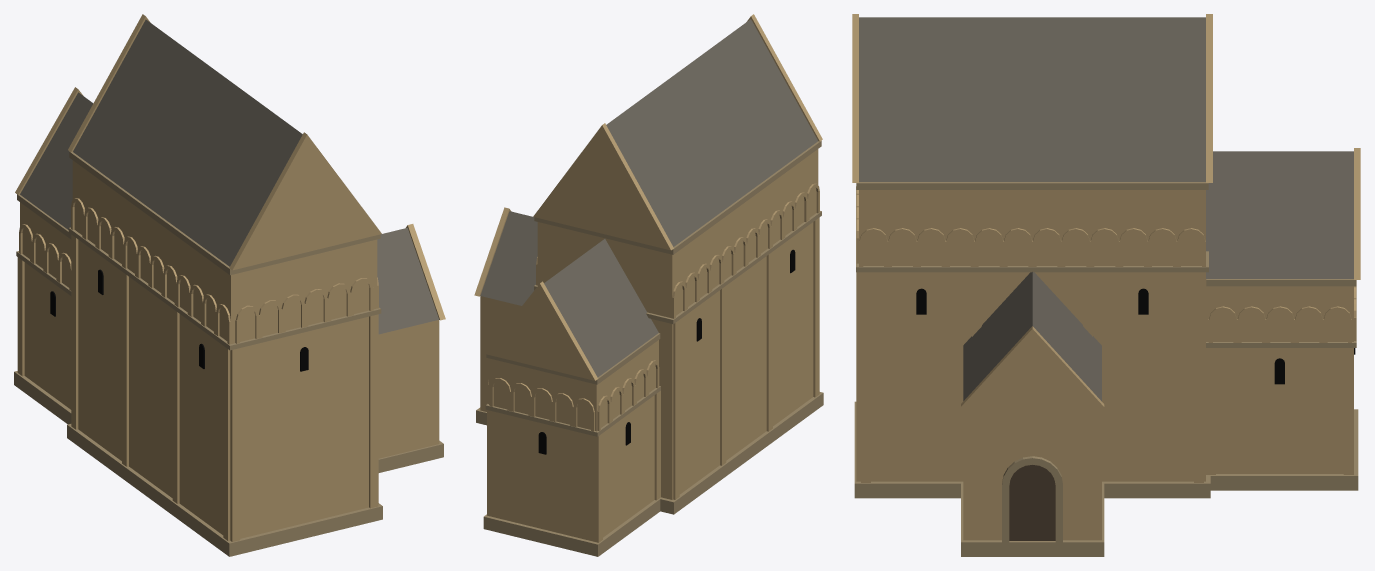
Rendered from minster-1000.glb.
3 renders of one model, left to right at view 1: azimuth 30°, elevation 25°; view 2: azimuth 150°, elevation 25°; view 3: azimuth 270°, elevation 25°, orthographic. The views are drawn at different scales.
Parts seen in each view (by area): view 1: nave, roof-nave, gable-nave-west, porch-north, chancel, plinth-nave, roof-porch, roof-chancel, eaves-course-nave, string-course-nave, pilasters-nave-west.02, pilaster-nave-west-01 (+10 smaller); view 2: nave, roof-nave, chancel, roof-chancel, gable-nave-east, gable-chancel-east, roof-porch, plinth-chancel, plinth-nave, eaves-course-nave, porch-north, pilasters-nave-south.04 (+10 smaller); view 3: nave, roof-nave, chancel, roof-chancel, porch-north, roof-porch, gable-porch-north, plinth-nave, door-porch, plinth-chancel, eaves-course-nave, plinth-porch (+12 smaller).
Boxes of the visible parts, box(x1,y1,x2,y2) form: nave: box(72, 160, 377, 540); roof-nave: box(73, 19, 302, 266); gable-nave-west: box(229, 132, 381, 270); porch-north: box(378, 320, 439, 458); chancel: box(20, 202, 71, 409); plinth-nave: box(67, 424, 382, 556); roof-porch: box(377, 228, 438, 334); roof-chancel: box(20, 92, 93, 229); eaves-course-nave: box(69, 151, 380, 275); string-course-nave: box(68, 227, 381, 350); pilasters-nave-west.02: box(369, 314, 378, 508); pilaster-nave-west-01: box(231, 348, 240, 541); nave: box(537, 149, 818, 499); roof-nave: box(606, 19, 817, 246); chancel: box(489, 340, 658, 542); roof-chancel: box(544, 239, 658, 377); gable-nave-east: box(533, 123, 673, 250); gable-chancel-east: box(484, 281, 598, 380); roof-porch: box(480, 211, 537, 305); plinth-chancel: box(483, 499, 660, 556); plinth-nave: box(659, 392, 823, 514); eaves-course-nave: box(534, 140, 821, 254); porch-north: box(480, 296, 521, 411); pilasters-nave-south.04: box(813, 217, 819, 397); nave: box(859, 190, 1205, 481); roof-nave: box(859, 17, 1205, 181); chancel: box(1206, 279, 1353, 473); roof-chancel: box(1206, 151, 1353, 278); porch-north: box(963, 407, 1101, 540); roof-porch: box(963, 272, 1101, 401); gable-porch-north: box(961, 326, 1104, 406); plinth-nave: box(854, 401, 1210, 498); door-porch: box(1009, 465, 1055, 540); plinth-chancel: box(1207, 409, 1358, 490); eaves-course-nave: box(856, 182, 1208, 189); plinth-porch: box(961, 481, 1104, 556).
Bounding box in the file's own units: 7.25 × 10.58 × 11.
